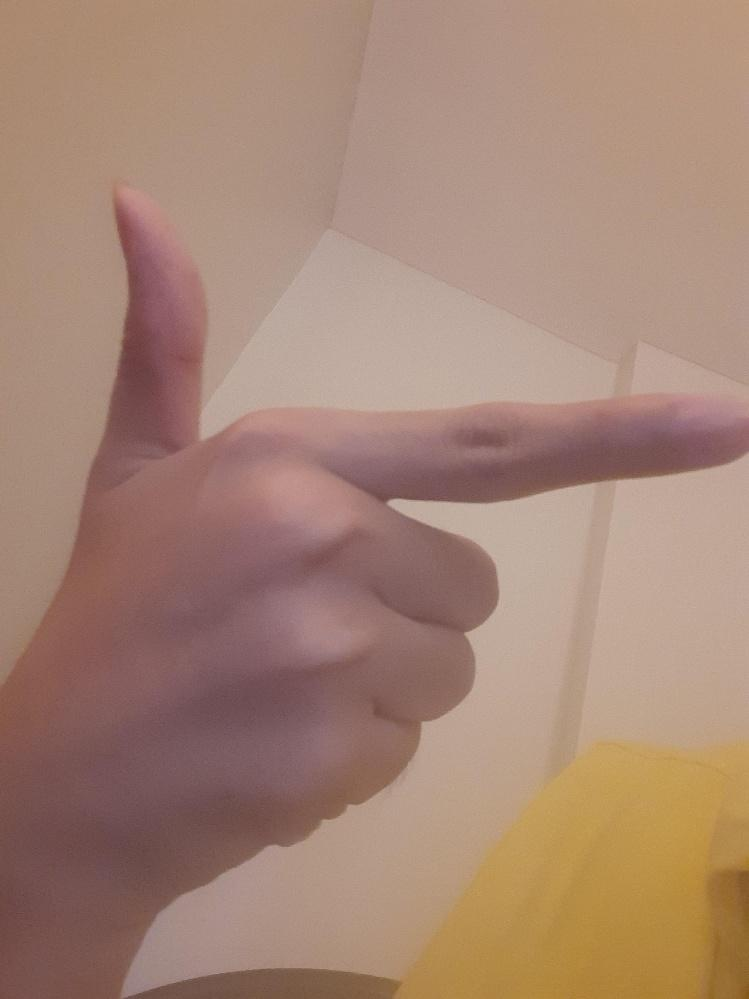g: (104, 180, 749, 886)
